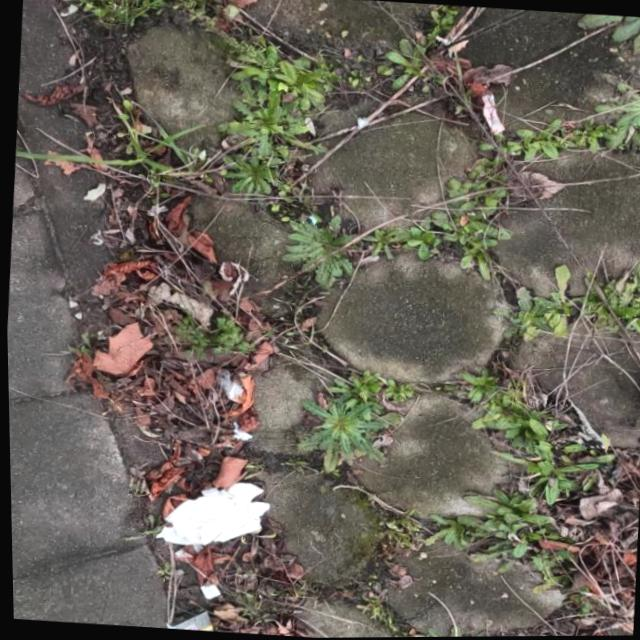Paper: (151, 474, 271, 554), (161, 605, 217, 632)
